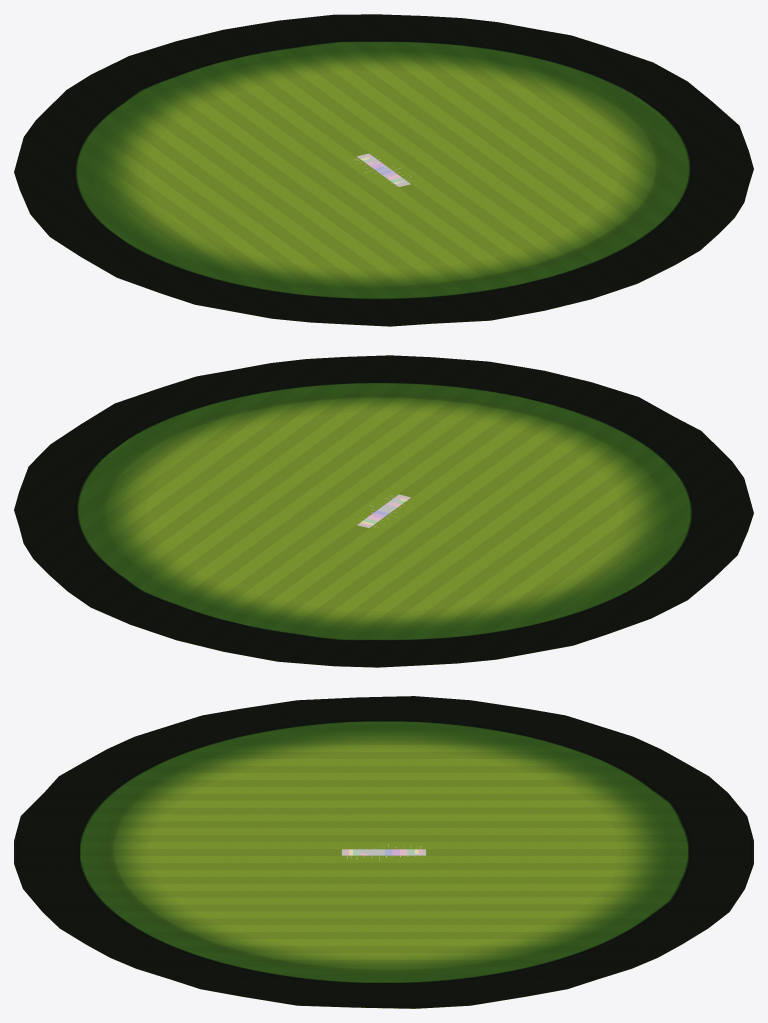
File: ground_daytime_2048.glb
3 views of the same model, one above another, from view 1: azimuth 30°, elevation 25°; view 2: azimuth 150°, elevation 25°; view 3: azimuth 270°, elevation 25° (orthographic).
Parts seen in each view (by area): view 1: ground_line1, ground_overlay; view 2: ground_line1, ground_overlay; view 3: ground_line1, ground_overlay.
Part boxes in pixels (<box>): ground_line1: <box>38,42,734,326</box>; ground_overlay: <box>14,14,753,326</box>; ground_line1: <box>33,383,736,667</box>; ground_overlay: <box>14,355,753,667</box>; ground_line1: <box>26,722,753,1008</box>; ground_overlay: <box>14,696,753,1008</box>.
Size of the model in its own units: 198 by 0.0287 by 198.
Materials: 14 (3 with a texture image).
